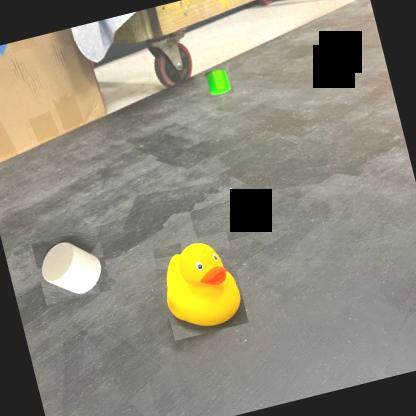duck: (152, 232, 250, 342)
green cylinder: (203, 66, 235, 98)
white cylinder: (31, 228, 112, 306)
